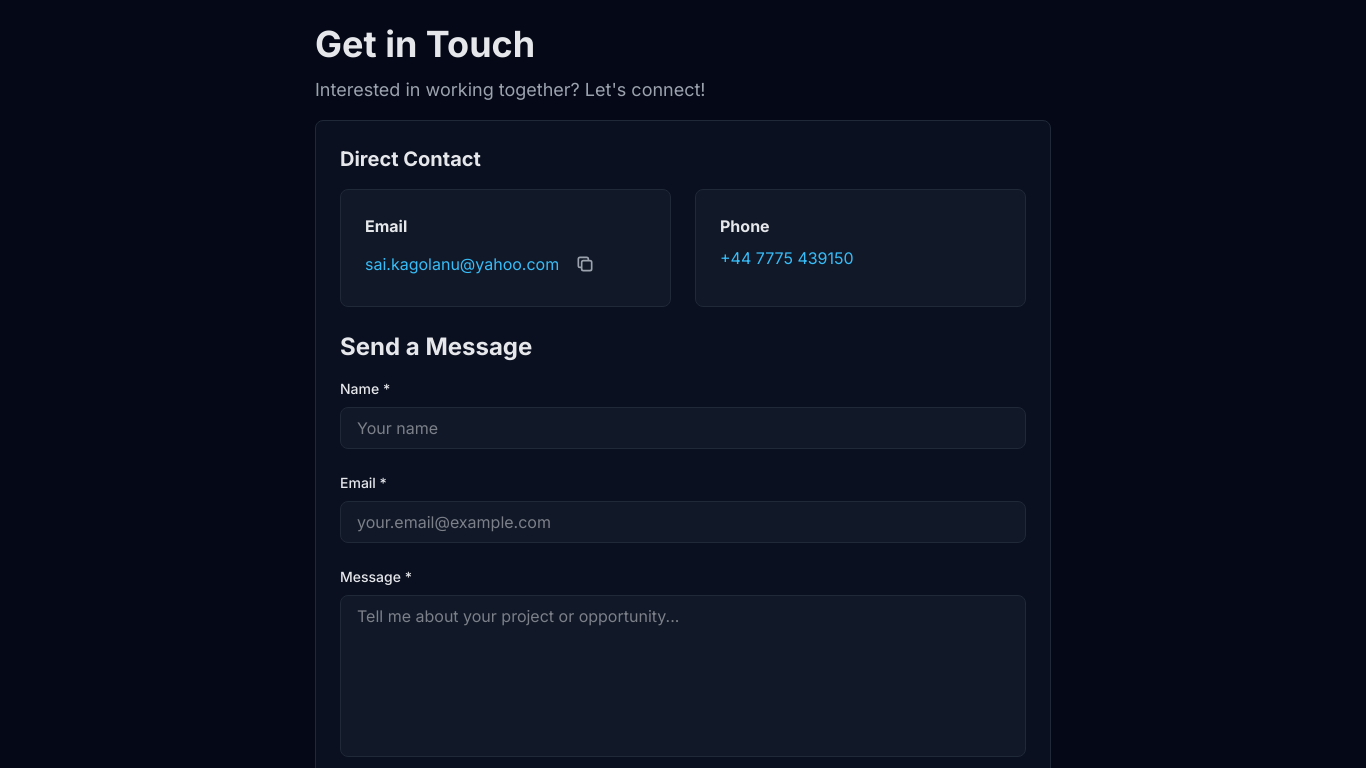
Contact Page › shows error message when submission fails
The image size is (1366, 768).
Type "Test" into the field labelled "Name *". click: point(683, 428)
box: left=340, top=407, right=1026, bottom=449
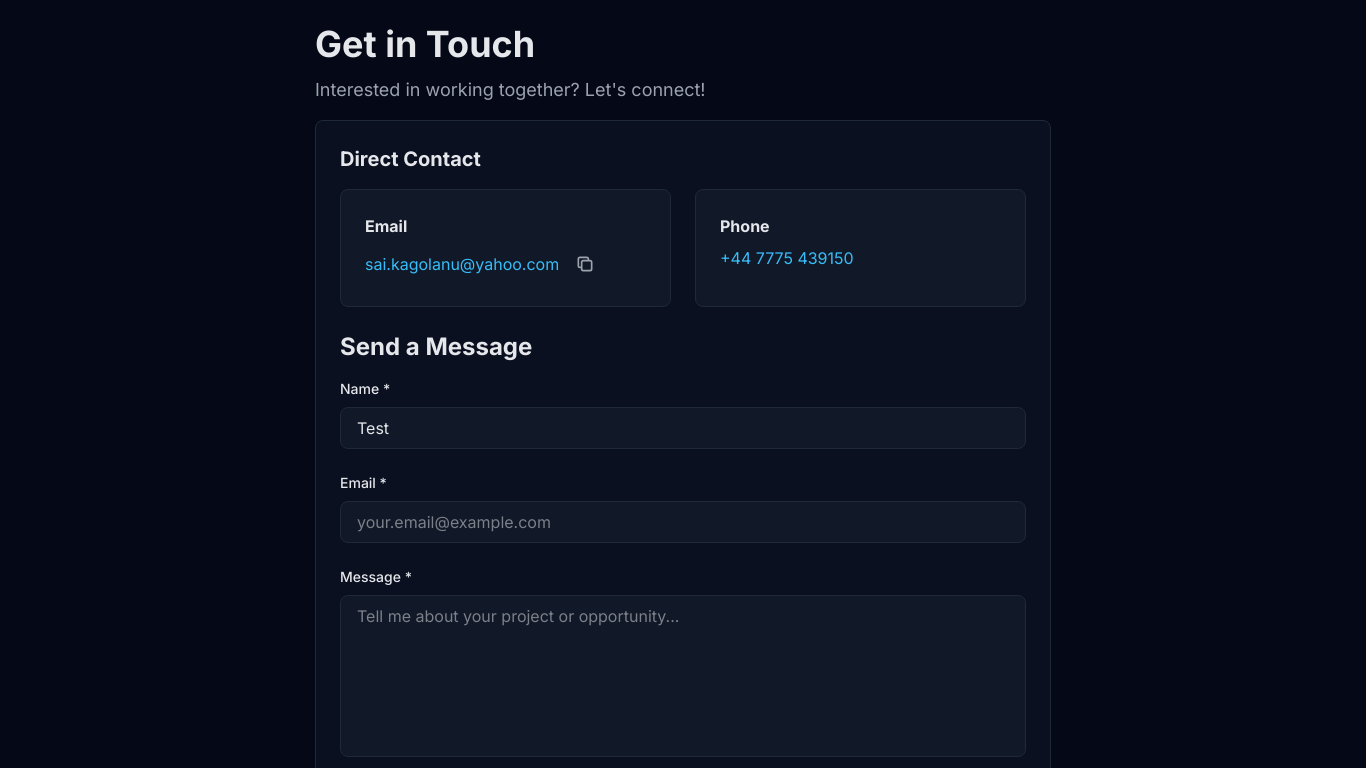
Type "test@test.com" into the field labelled "Email *". click: point(683, 522)
box: left=340, top=501, right=1026, bottom=543
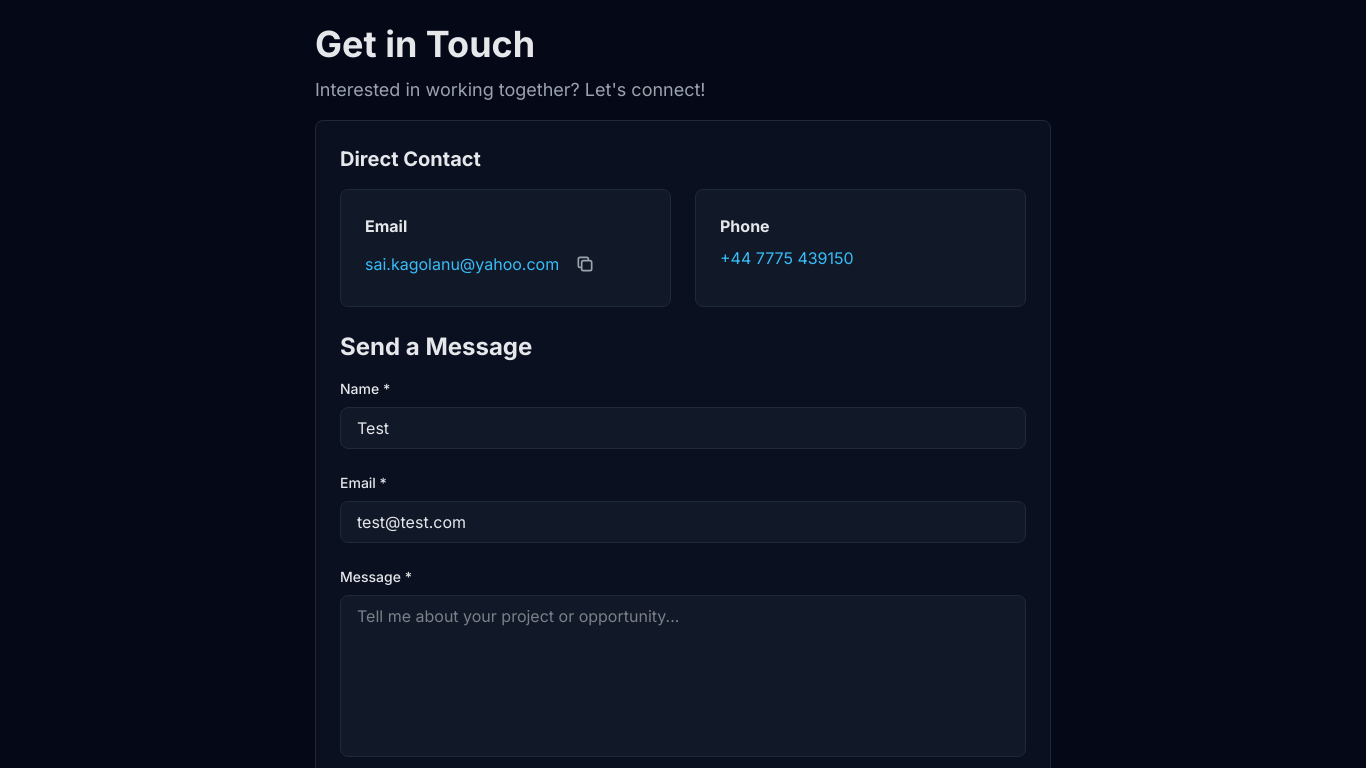
Type "Message" into the text box labelled "Message *". click: point(683, 676)
box: left=340, top=595, right=1026, bottom=757
(page scrolled)
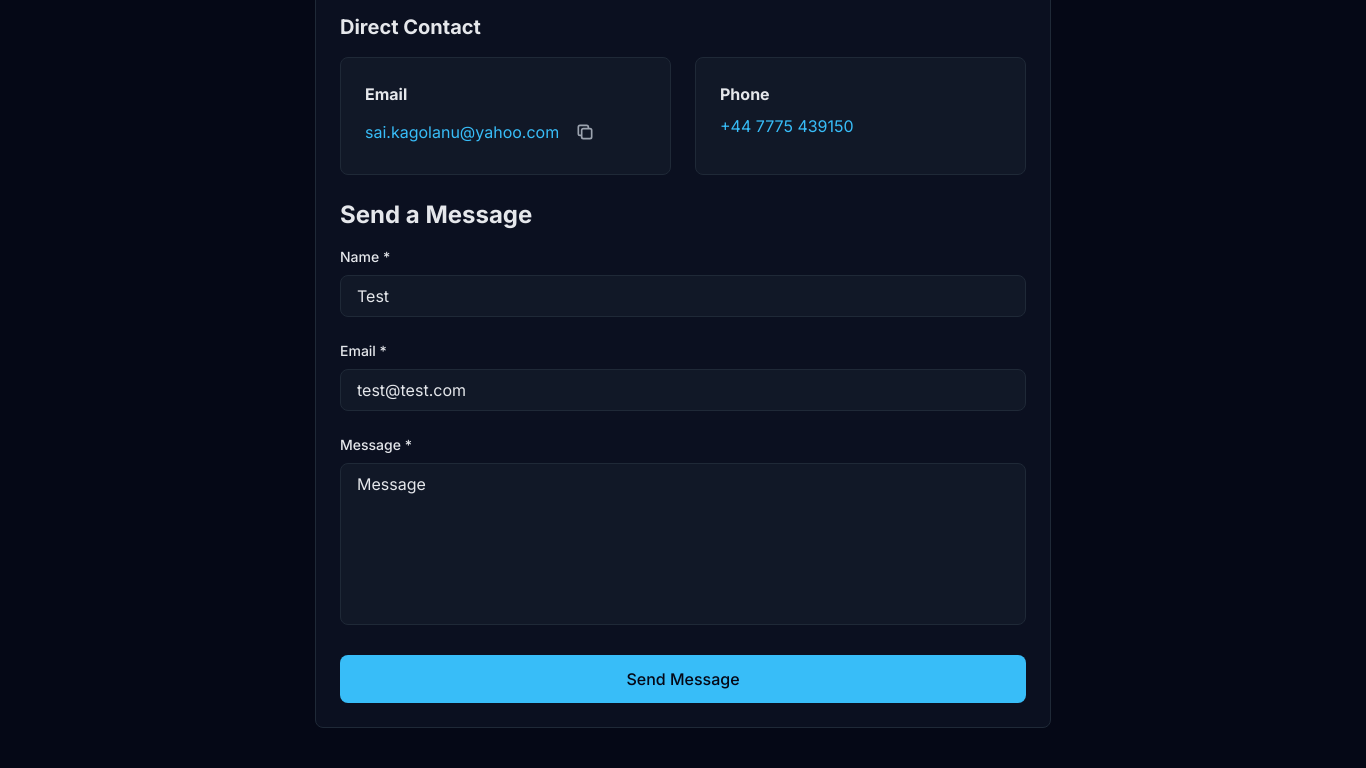
Submit the form "Name * Email * Message * Send Message", box left=340, top=247, right=1026, bottom=703
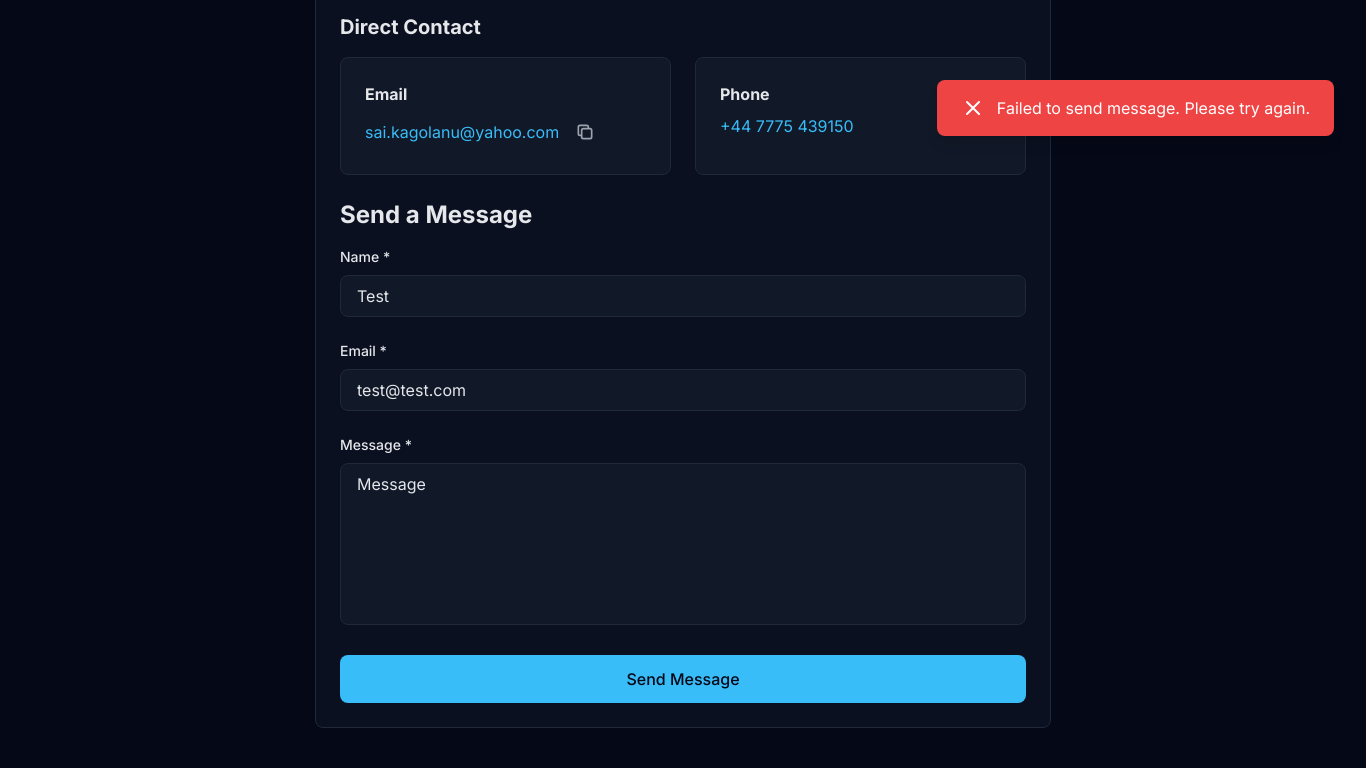
Expected: the text "Failed to send message. Please try again." is shown, left=997, top=96, right=1310, bottom=120
